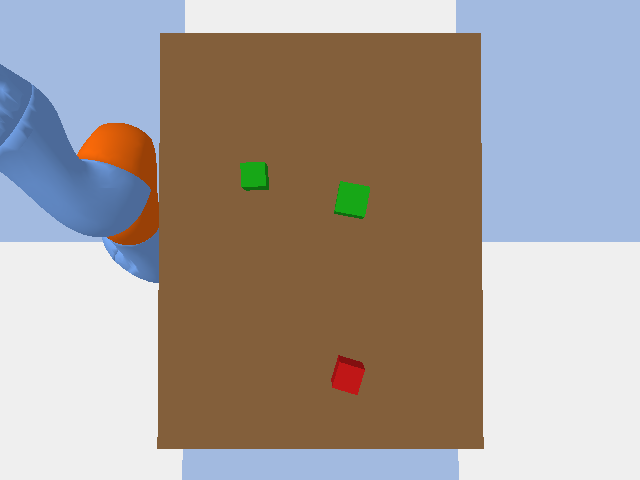green_obj: (334, 181, 369, 218), (240, 162, 268, 190)
red_obj: (331, 355, 364, 394)
